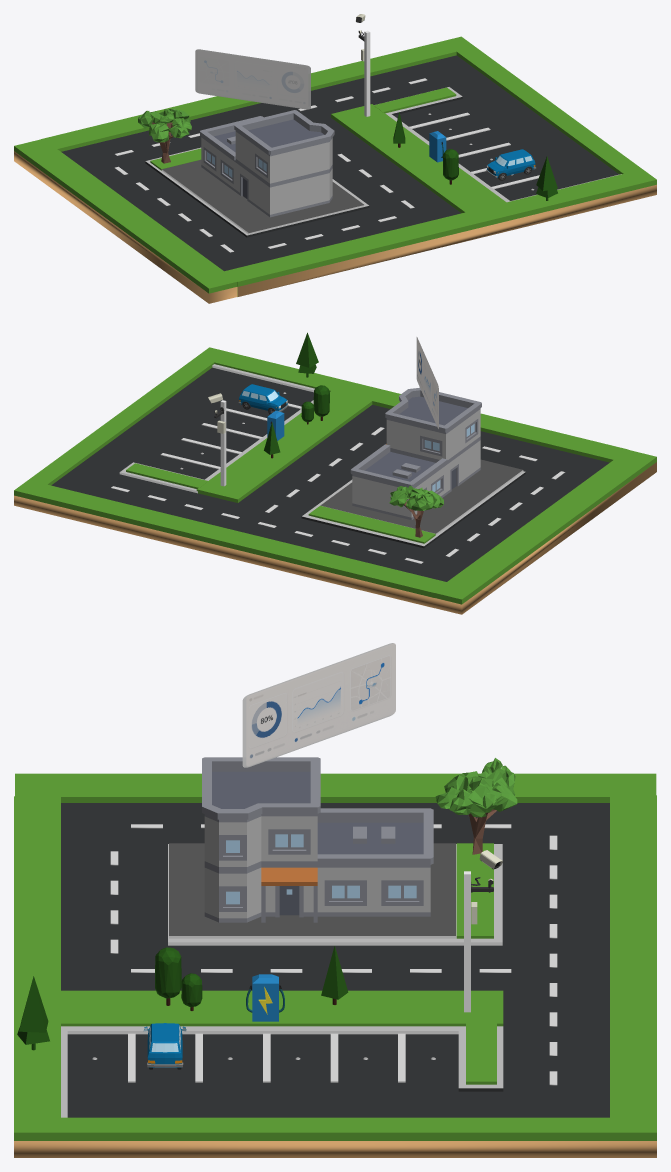
Rendered from model-onehouse.glb.
The picture shows the model from 3 angles, top to bottom: view 1: azimuth 30°, elevation 25°; view 2: azimuth 150°, elevation 25°; view 3: azimuth 270°, elevation 25°; orthographic projection. The views are drawn at different scales.
Visible parts, largest first — view 1: parking, small_buildingE, PappInsights, tree, trees, Van, PappCamera, cahrger; view 2: parking, small_buildingE, trees, tree, PappInsights, Van, PappCamera, roadlines4; view 3: parking, small_buildingE, PappInsights, trees, tree, Van, PappCamera, cahrger, roadlines4, roadlines1.
Part boxes in pixels (bbox=[...]): parking: bbox=[14, 36, 656, 303]; small_buildingE: bbox=[200, 110, 334, 217]; PappInsights: bbox=[195, 49, 310, 109]; tree: bbox=[138, 108, 191, 163]; trees: bbox=[393, 112, 557, 200]; Van: bbox=[486, 149, 536, 180]; PappCamera: bbox=[358, 30, 370, 116]; cahrger: bbox=[429, 131, 446, 162]; parking: bbox=[14, 347, 656, 614]; small_buildingE: bbox=[350, 387, 481, 520]; trees: bbox=[264, 332, 329, 458]; tree: bbox=[389, 485, 443, 537]; PappInsights: bbox=[416, 337, 438, 428]; Van: bbox=[238, 384, 288, 414]; PappCamera: bbox=[214, 400, 226, 486]; roadlines4: bbox=[111, 486, 423, 563]; parking: bbox=[14, 773, 656, 1157]; small_buildingE: bbox=[202, 757, 433, 922]; PappInsights: bbox=[242, 643, 395, 767]; trees: bbox=[17, 946, 348, 1050]; tree: bbox=[435, 758, 517, 854]; Van: bbox=[144, 1023, 186, 1069]; PappCamera: bbox=[464, 871, 493, 1012]; cahrger: bbox=[246, 974, 284, 1021]; roadlines4: bbox=[549, 835, 557, 1085]; roadlines1: bbox=[131, 969, 511, 972].
Bounding box in the file's own units: 5.46 × 1.7 × 4.13.
Materials: 28 (2 with a texture image).
